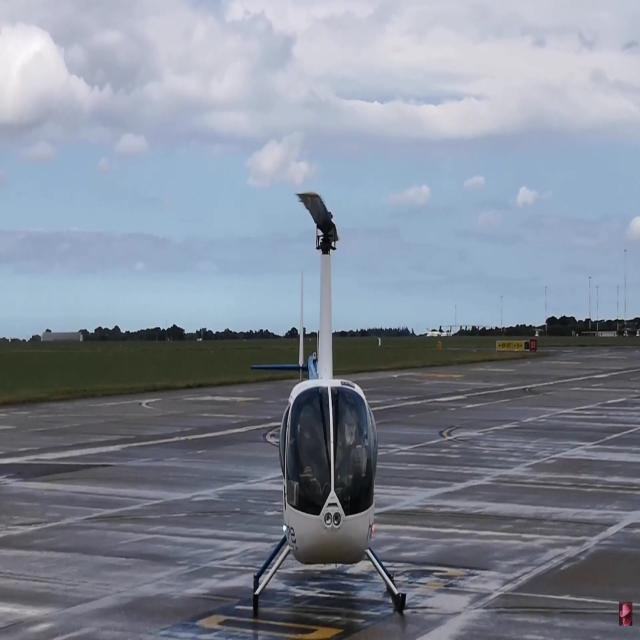CIV_HELO: (252, 209, 412, 624)
